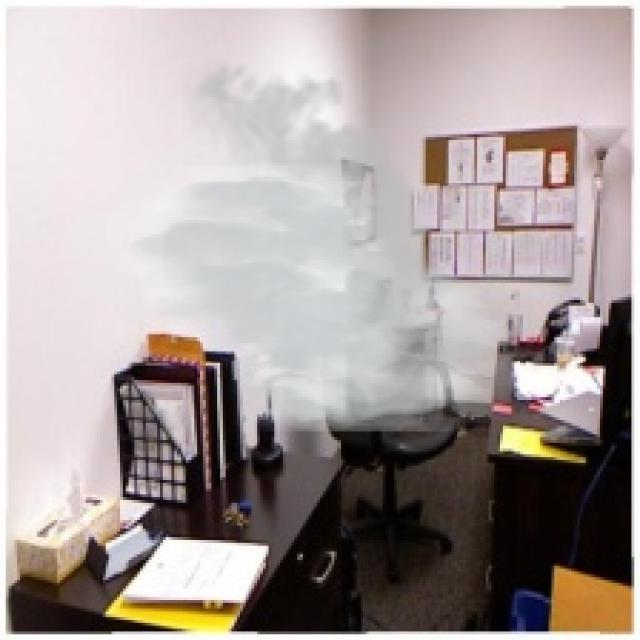smoke: (106, 51, 517, 432)
